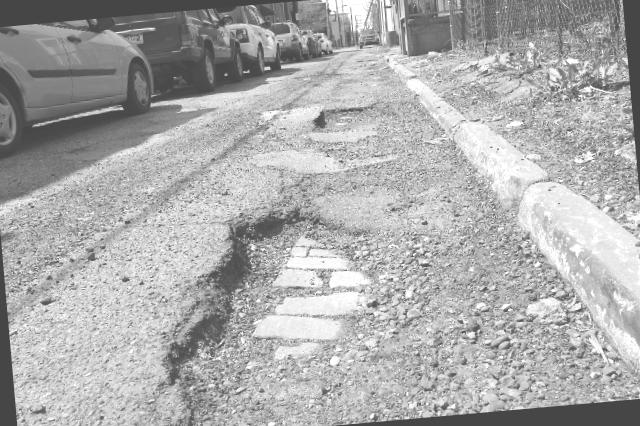Pothole: (126, 175, 439, 426), (272, 81, 406, 171)
